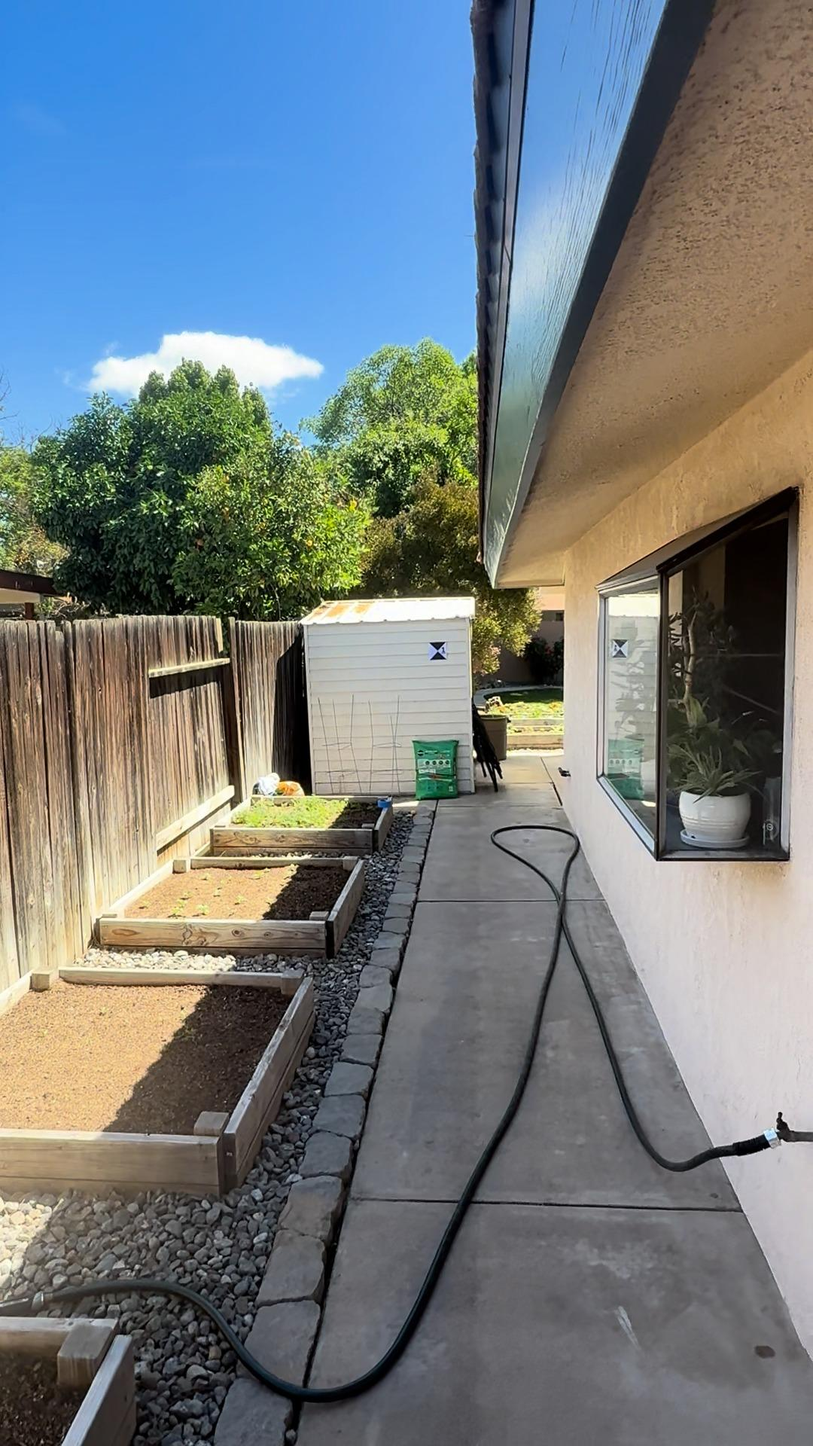target1: (428, 640, 449, 662)
